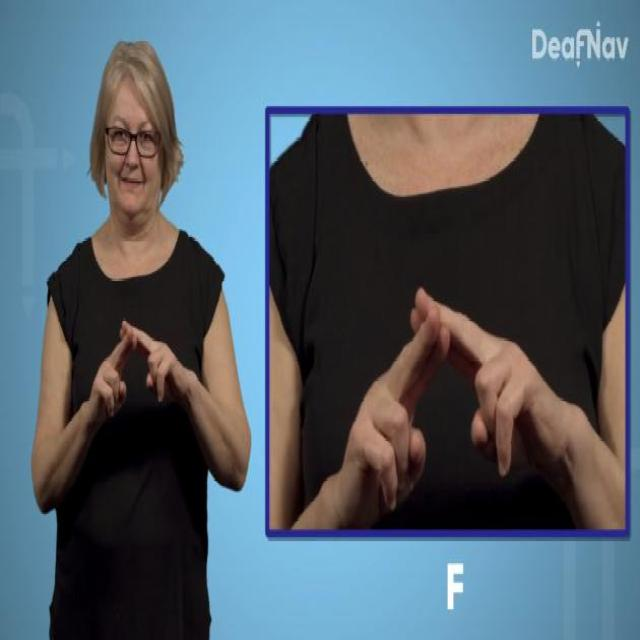F: (345, 286, 545, 517), (90, 318, 180, 423)
